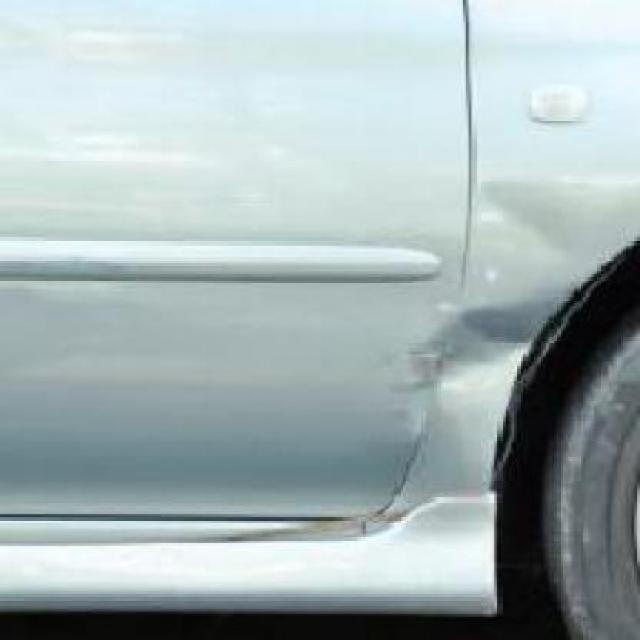dent-or-scratch: (419, 288, 532, 422)
